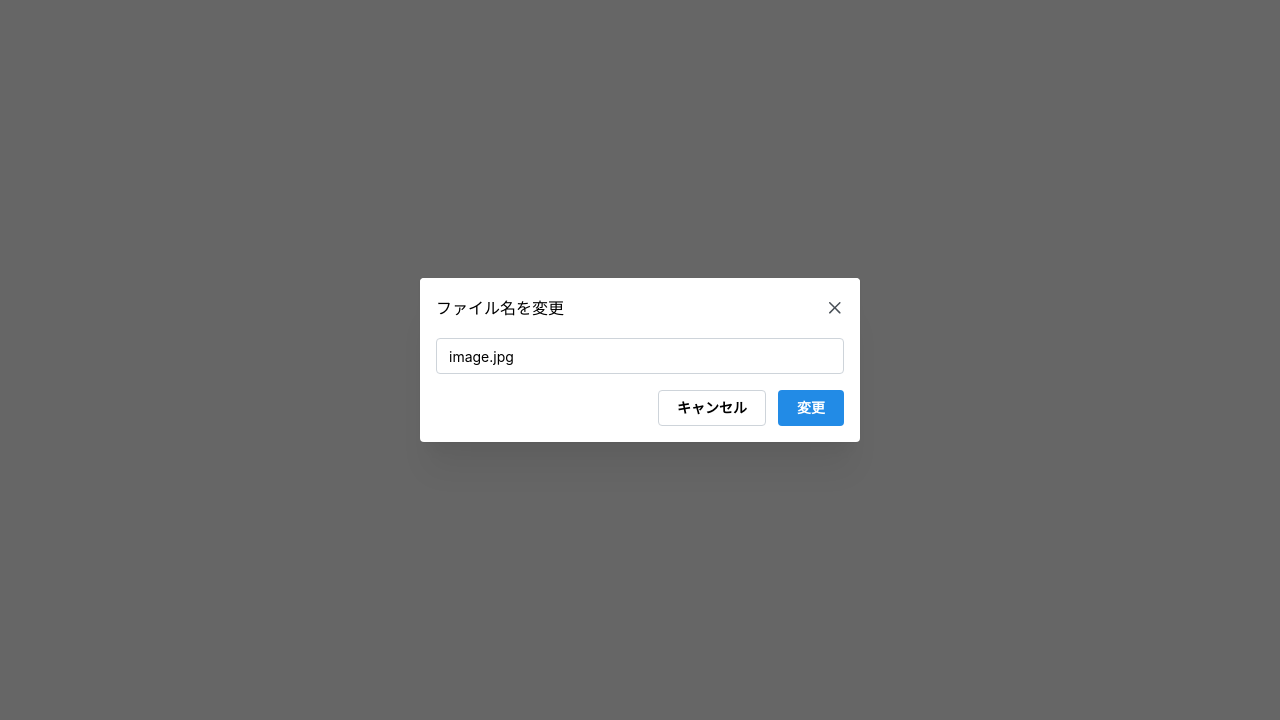
Test case: RenameDialog › validation error display › should show error for name with slash
Replace the text in the field with "foo/bar" at (640, 356), box [436,338,844,374]
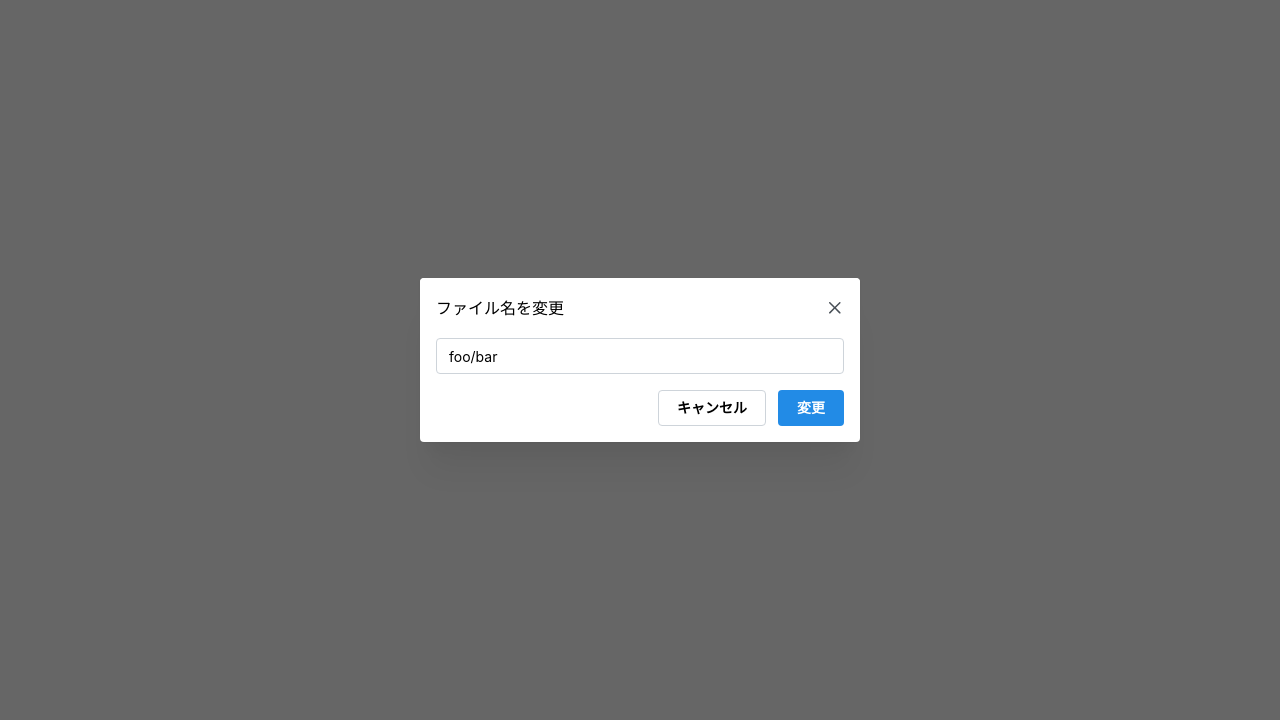
Click the button "変更" at (811, 408), box [778,390,844,426]
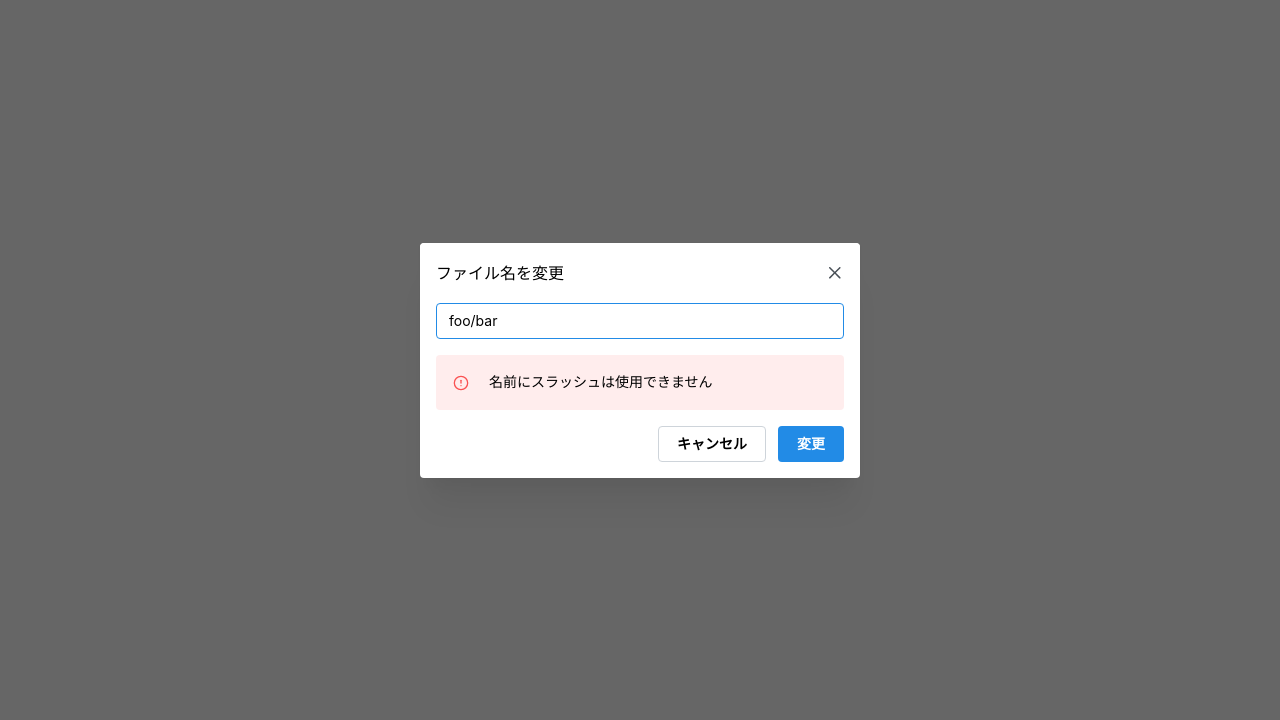
Check: the text "名前にスラッシュは使用できません" is shown, box [489,372,713,390]
